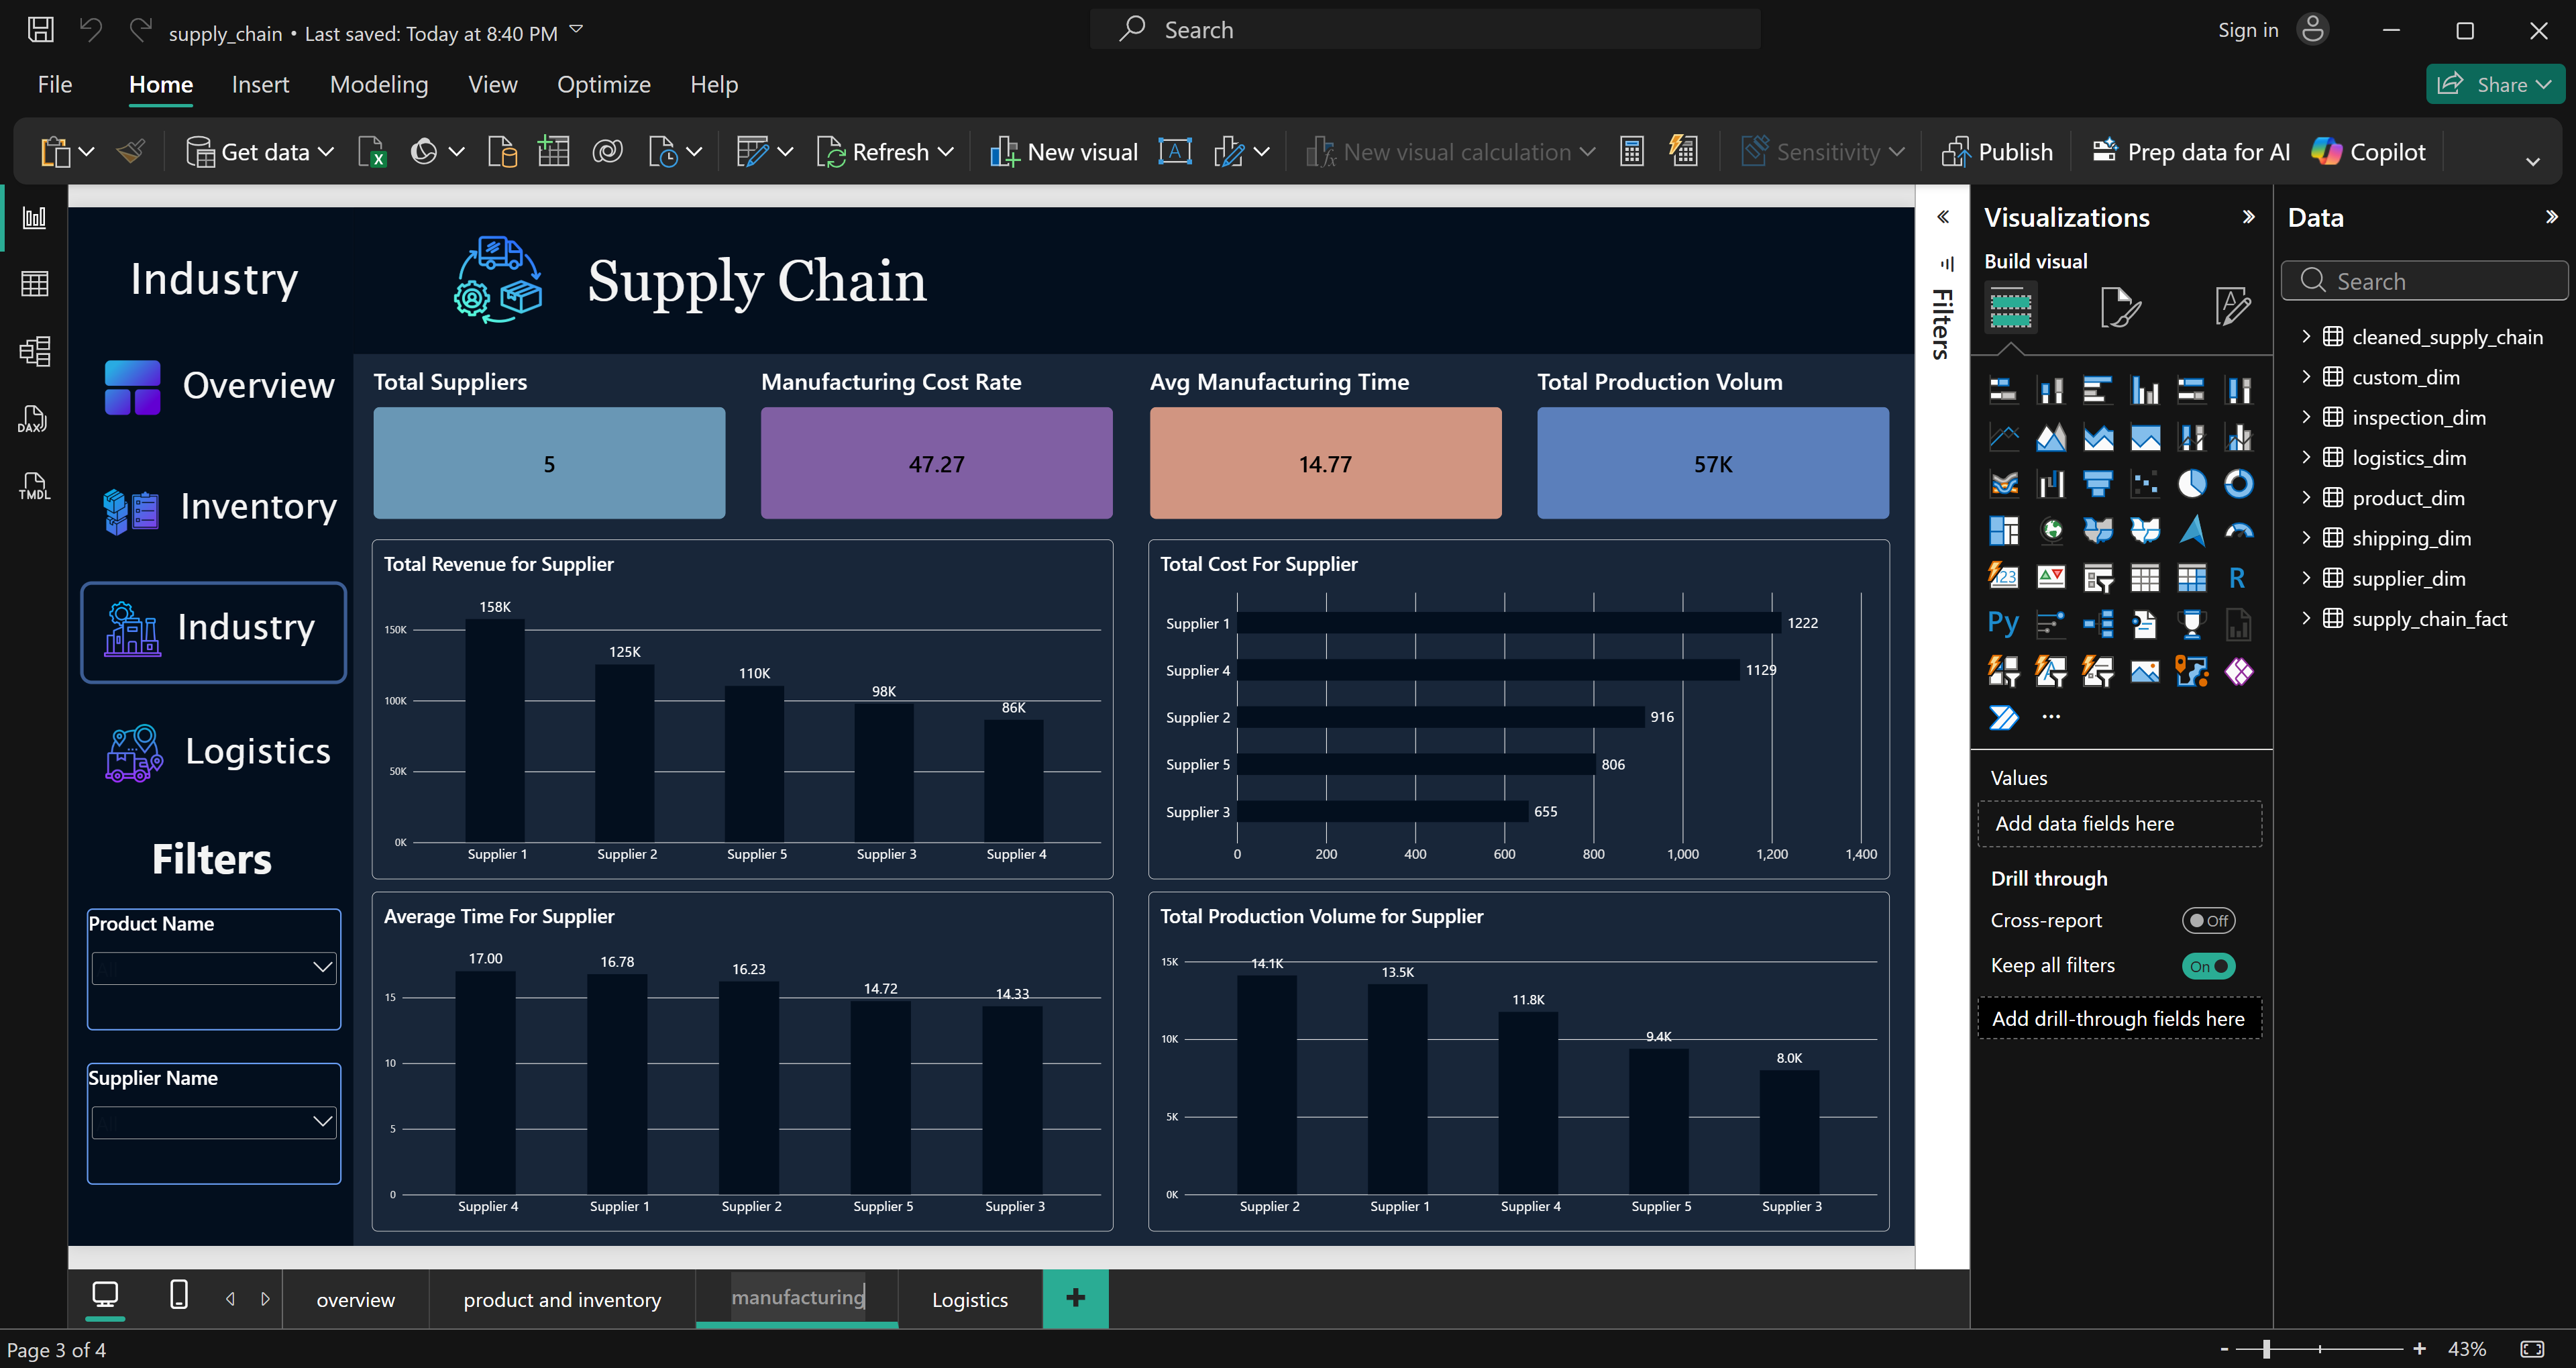

What the dashboard file says about the page in this screenshot:
{"tool":"powerbi","page":{"name":"manufacturing","canvas":[2560,1440],"ordinal":2},"visuals":[{"type":"shape","box":[0,0,395.2,1440.8],"z":0},{"type":"shape","box":[395.2,0,2165.4,203.1],"z":1000},{"type":"image","box":[511.5,38.4,168.1,122.5],"z":2000},{"type":"textbox","box":[698.8,55.2,516.3,105.7],"z":3000},{"type":"cardVisual","title":"Total Suppliers","fields":{"Data":["Count(supplier_dim.supplier_name)"]},"box":[423,217.6,488.4,214],"z":4000},{"type":"cardVisual","title":"Manufacturing Cost Rate","fields":{"Data":["Avg(supply_chain_fact.manufacturing_costs)"]},"box":[960.9,217.6,488.4,214],"z":5000},{"type":"cardVisual","title":"Avg Manufacturing Time","fields":{"Data":["Avg(supply_chain_fact.manufacturing_lead_time)"]},"box":[1498.9,217.6,488.4,214],"z":6000},{"type":"cardVisual","title":"Total Production Volum","fields":{"Data":["Sum(supply_chain_fact.production_volumes)"]},"box":[2036.8,218.4,488.4,214],"z":7000},{"type":"clusteredColumnChart","title":"Total Revenue for Supplier","fields":{"Category":["supplier_dim.supplier_name"],"Y":["Sum(supply_chain_fact.revenue)"]},"box":[422.1,461.4,1028.2,471.2],"z":8000},{"type":"clusteredBarChart","title":"Total Cost For Supplier","fields":{"Category":["supplier_dim.supplier_name"],"Y":["Sum(supply_chain_fact.manufacturing_costs)"]},"box":[1496.9,461.4,1028.2,471.2],"z":9000},{"type":"clusteredColumnChart","title":"Average Time For Supplier","fields":{"Y":["Avg(supply_chain_fact.lead_time)"],"Category":["supplier_dim.supplier_name"]},"box":[422.1,949.7,1028.2,471.2],"z":10000},{"type":"clusteredColumnChart","title":"Total Production Volume for Supplier","fields":{"Y":["Sum(supply_chain_fact.production_volumes)"],"Category":["supplier_dim.supplier_name"]},"box":[1496.9,949.7,1028,471],"z":11000},{"type":"textbox","box":[24.5,56.4,353.4,105.5],"z":12000},{"type":"image","box":[49.1,206.1,81,85.9],"z":13000},{"type":"textbox","box":[132.5,211,262.6,81],"z":14000},{"type":"image","box":[49.1,382.8,76.1,78.5],"z":15000},{"type":"textbox","box":[132.5,377.9,262.6,81],"z":16000},{"type":"image","box":[49.1,542.3,81,85.9],"z":17000},{"type":"textbox","box":[130.1,547.2,262.6,81],"z":18000},{"type":"image","box":[51.5,714.1,81,85.9],"z":19000},{"type":"textbox","box":[132.5,719,262.6,81],"z":20000},{"type":"shape","box":[17.2,517.8,370.6,142.3],"z":21000},{"type":"textbox","box":[49.1,861.4,299.4,88.3],"z":22000},{"type":"slicer","title":"Product Name","fields":{"Values":["product_dim.product_name"]},"box":[24.5,971.8,353.4,169.3],"z":23000},{"type":"slicer","title":"Supplier Name","fields":{"Values":["supplier_dim.supplier_name"]},"box":[24.5,1185.3,353.4,169.3],"z":24000}]}

Visuals, with their boxes on the page's 2560x1440 design canvas (x1, y1, x2, y2). These are canvas units, not pixel positions in the 2576x1368 screenshot, which may show the page scaled, cropped or inside an application window:
shape: bbox(0, 0, 395, 1441)
shape: bbox(395, 0, 2561, 203)
image: bbox(512, 38, 680, 161)
textbox: bbox(699, 55, 1215, 161)
"Total Suppliers" cardVisual: bbox(423, 218, 911, 432)
"Manufacturing Cost Rate" cardVisual: bbox(961, 218, 1449, 432)
"Avg Manufacturing Time" cardVisual: bbox(1499, 218, 1987, 432)
"Total Production Volum" cardVisual: bbox(2037, 218, 2525, 432)
"Total Revenue for Supplier" clusteredColumnChart: bbox(422, 461, 1450, 933)
"Total Cost For Supplier" clusteredBarChart: bbox(1497, 461, 2525, 933)
"Average Time For Supplier" clusteredColumnChart: bbox(422, 950, 1450, 1421)
"Total Production Volume for Supplier" clusteredColumnChart: bbox(1497, 950, 2525, 1421)
textbox: bbox(24, 56, 378, 162)
image: bbox(49, 206, 130, 292)
textbox: bbox(132, 211, 395, 292)
image: bbox(49, 383, 125, 461)
textbox: bbox(132, 378, 395, 459)
image: bbox(49, 542, 130, 628)
textbox: bbox(130, 547, 393, 628)
image: bbox(52, 714, 132, 800)
textbox: bbox(132, 719, 395, 800)
shape: bbox(17, 518, 388, 660)
textbox: bbox(49, 861, 348, 950)
"Product Name" slicer: bbox(24, 972, 378, 1141)
"Supplier Name" slicer: bbox(24, 1185, 378, 1355)
